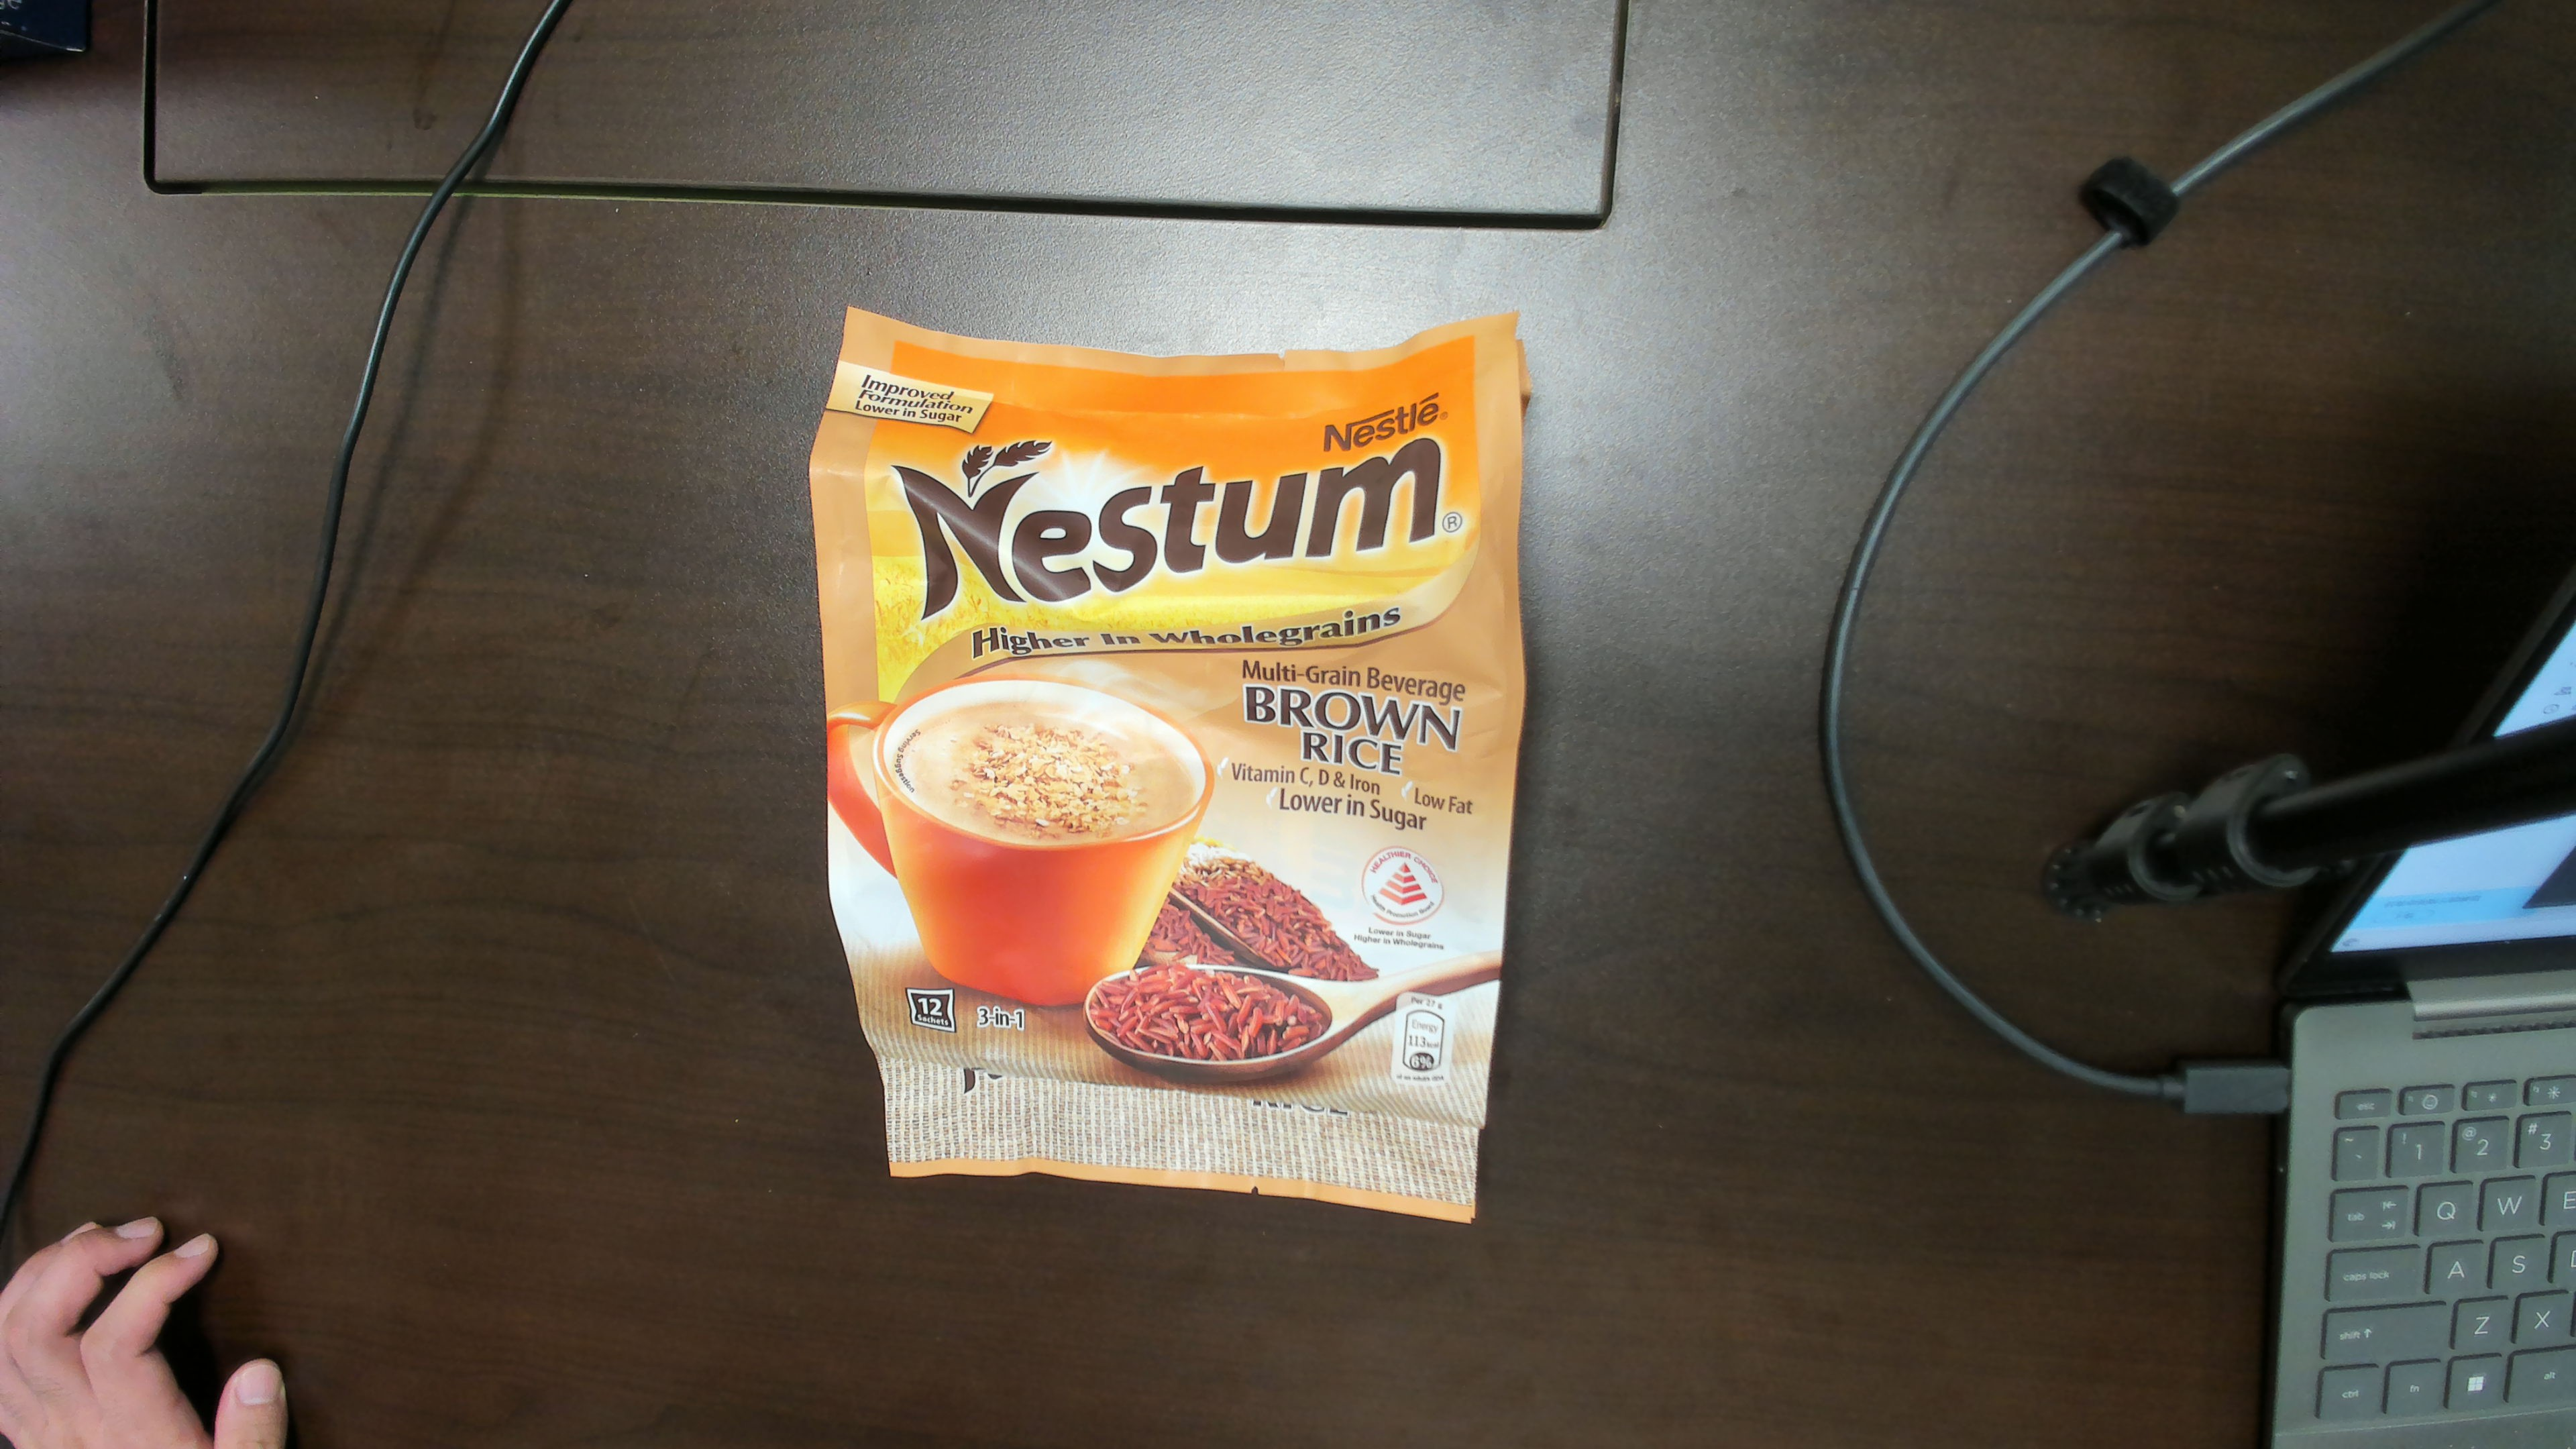CerealBeverage-powder_300-399g_NonHalal_Healthy: (888, 396, 1472, 1079)
